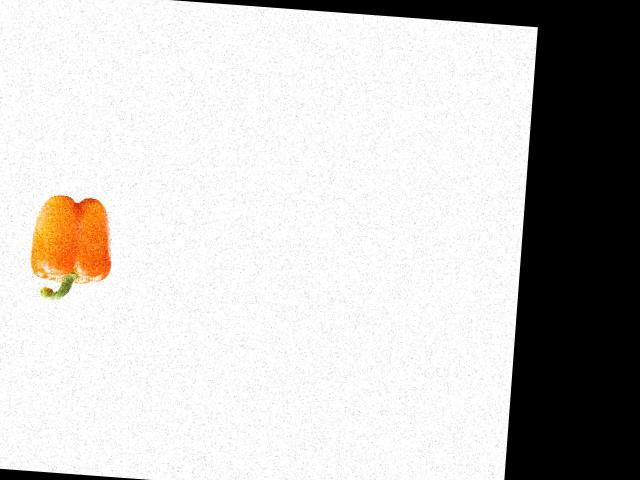bell_pepper: (18, 192, 123, 304)
